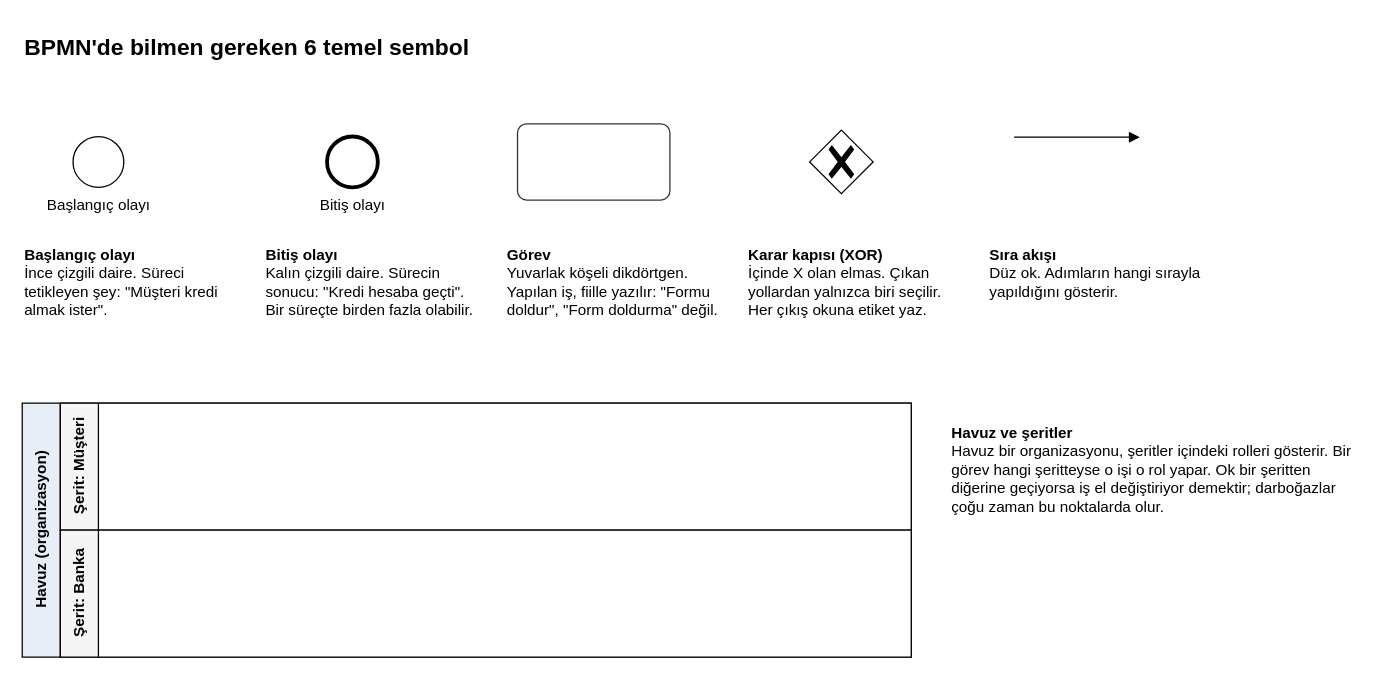
Image size: 1378x679. Some labels were removed from this diagram. Each missing label, with the centre of its shape:
"Belge tam mı?" goes at [840,161].
"Formu doldur" goes at [593,161].
